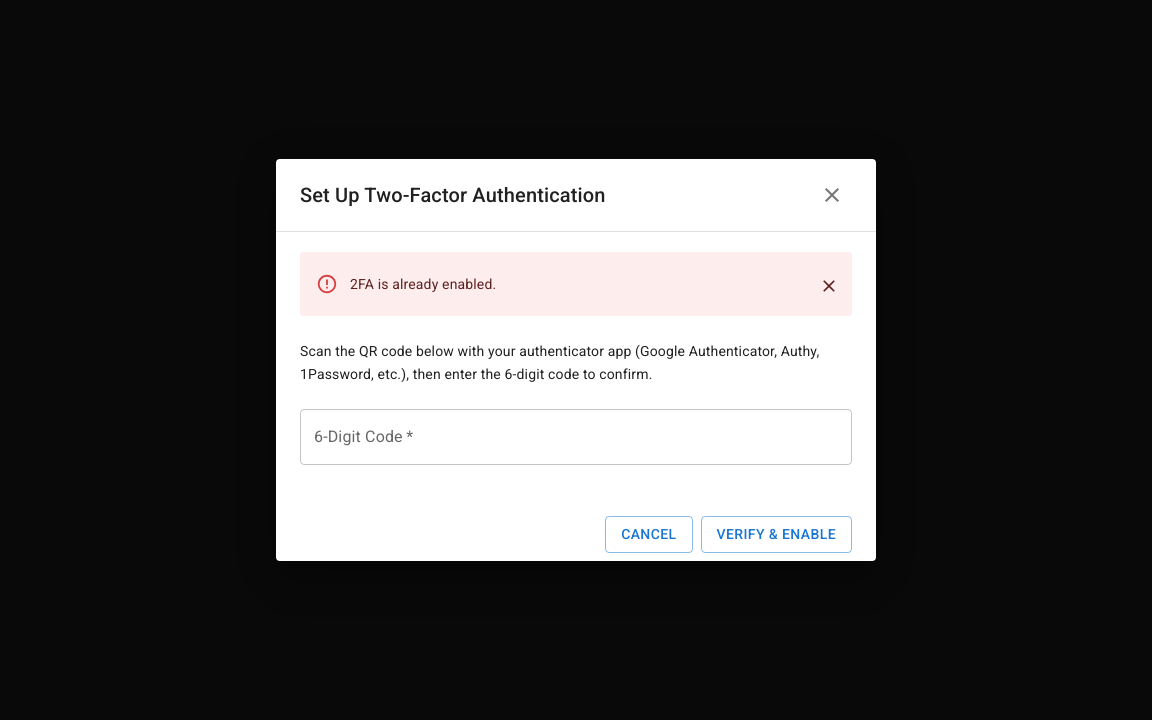
Test case: Setup2FADialog › Step 2 - Setup › Dismisses error alert when close is clicked
Expected: the text "2FA is already enabled." is shown, top-left (350, 274), bottom-right (496, 294)
Click the button named "close" at (829, 286), box top-left (814, 271), bottom-right (844, 301)
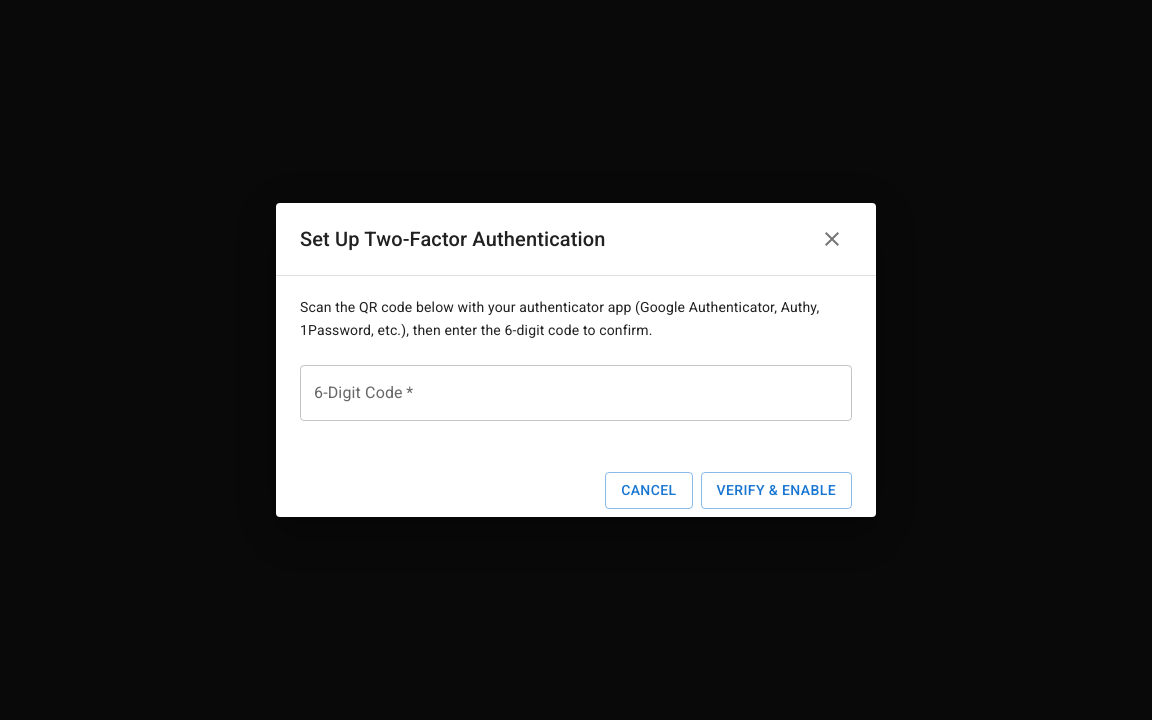
Expected: the text "2FA is already enabled." is gone
